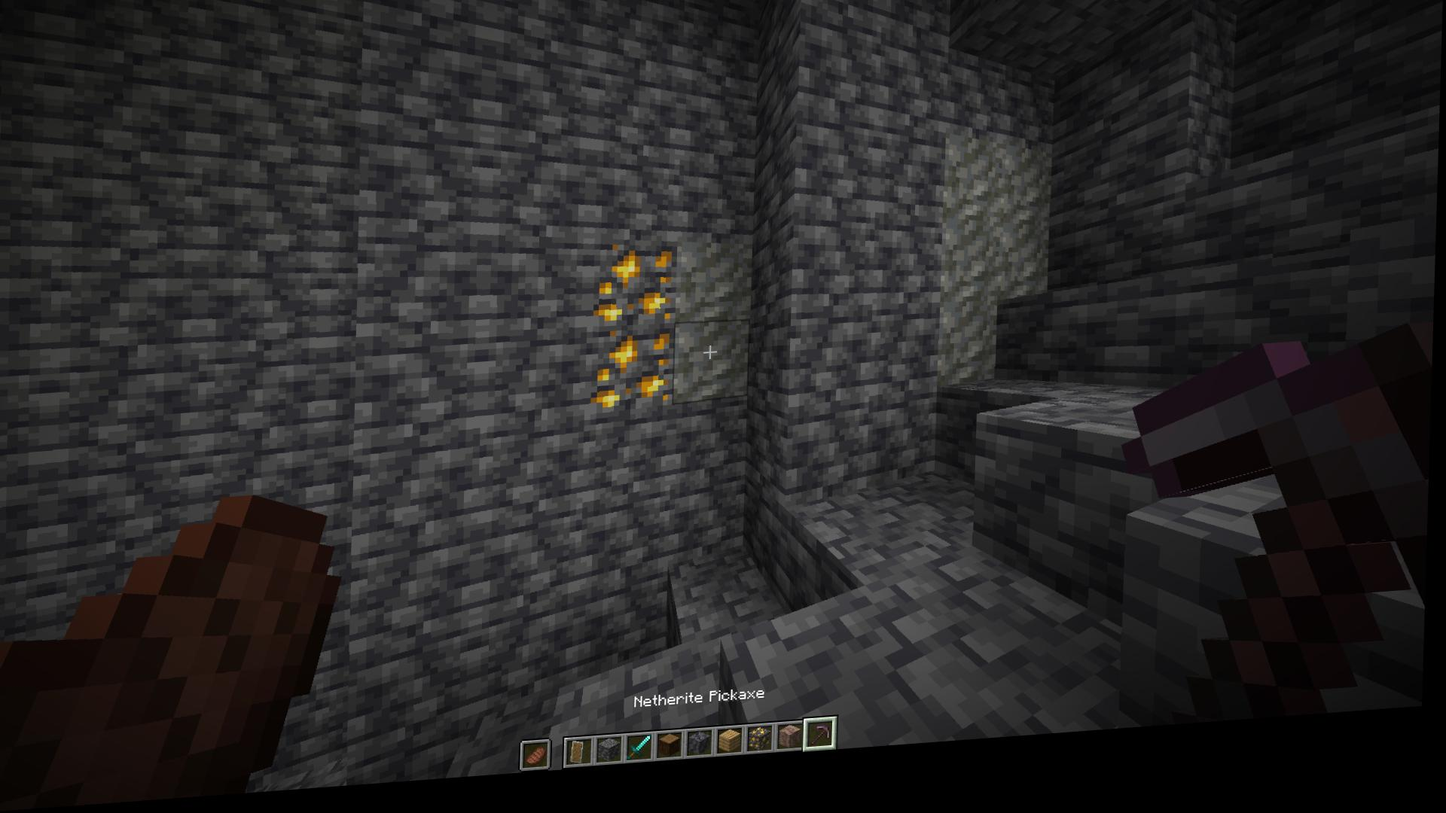gold ore: (593, 246, 681, 339), (596, 336, 677, 423)
